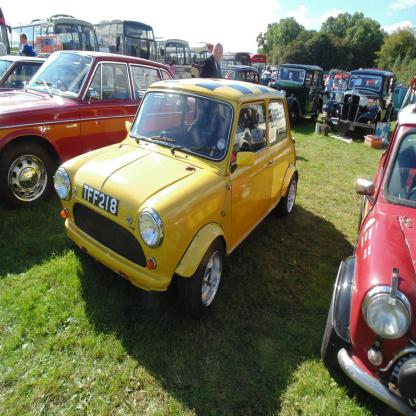Car: (0, 49, 416, 416)
